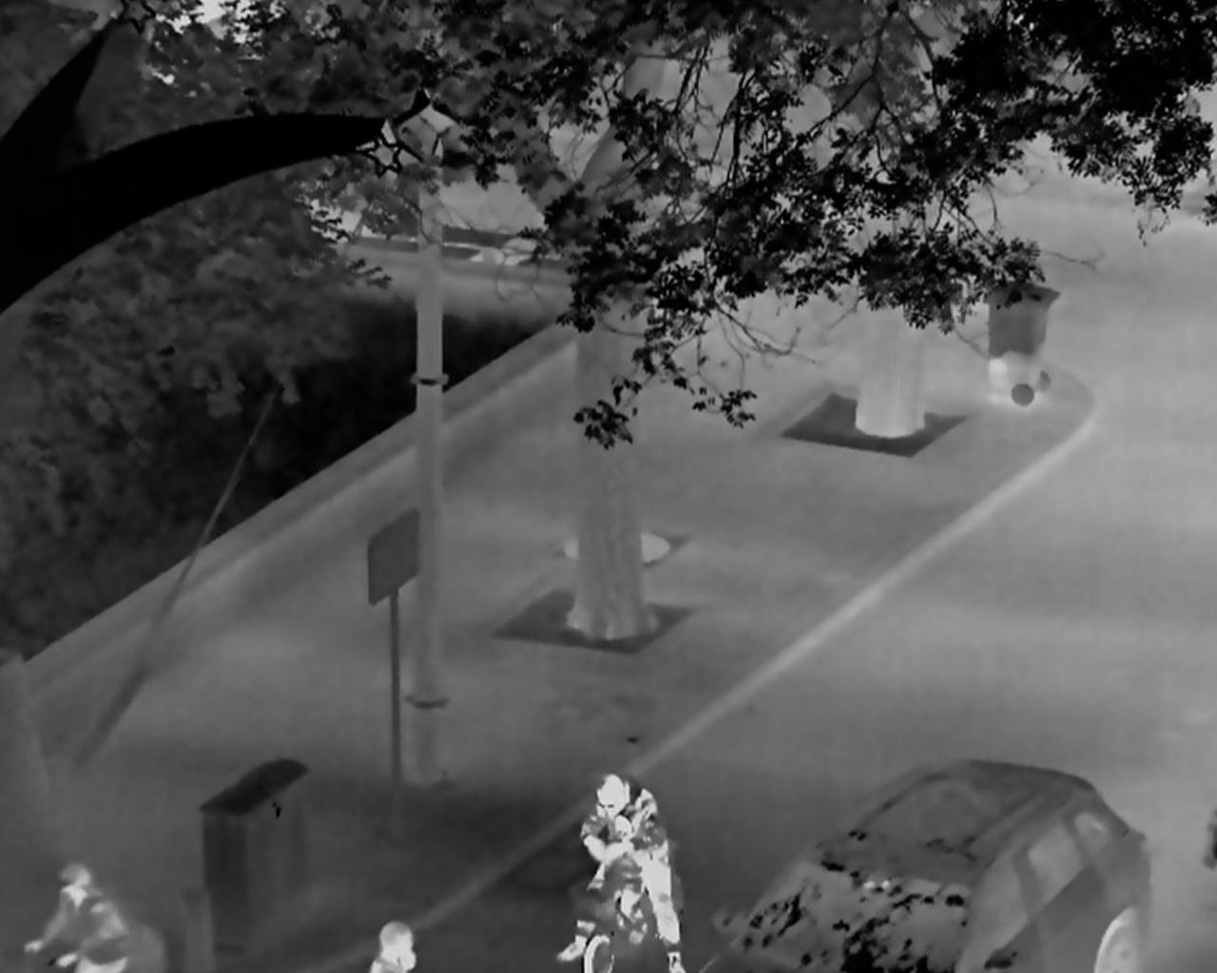person: (555, 772, 688, 973), (22, 860, 131, 973), (602, 804, 651, 945), (367, 920, 419, 973)
